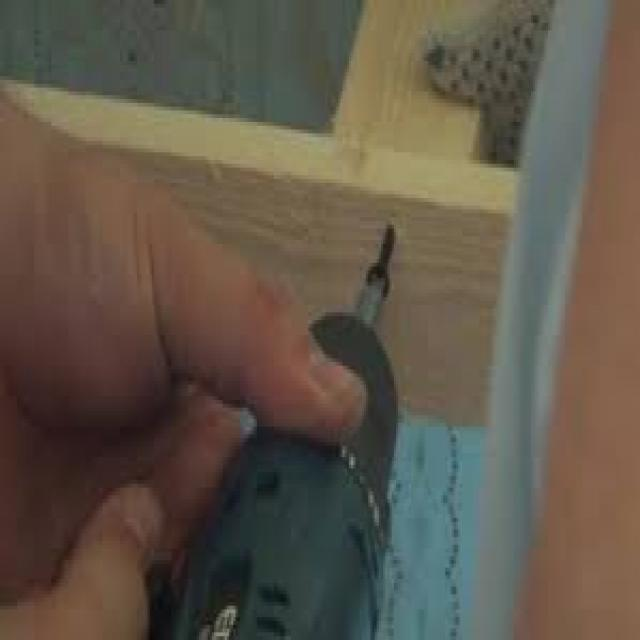drill: (115, 190, 428, 640)
